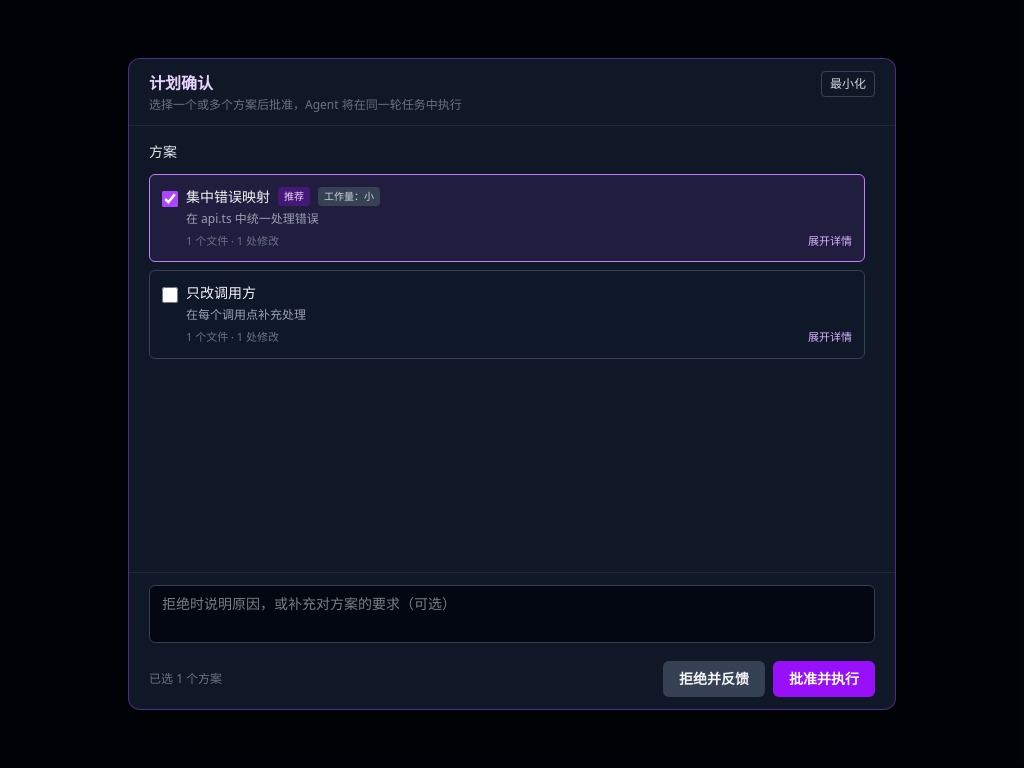
Test case: PlanApprovalCard › 未选择方案时禁用批准按钮
取消推荐方案的勾选
Click the checkbox labelled "集中错误映射 推荐 工作量：小 在 api.ts 中统一处理错误": click(170, 199) [162,191,178,207]
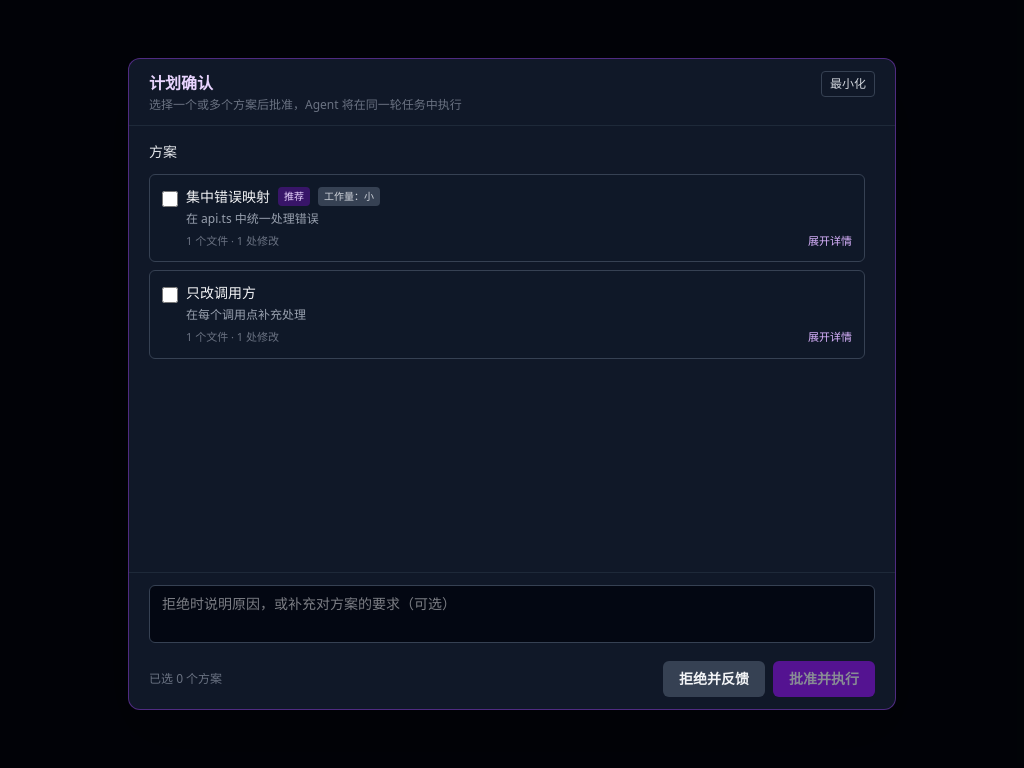
Expected: the button "批准并执行" is disabled, [773,661,875,697]
